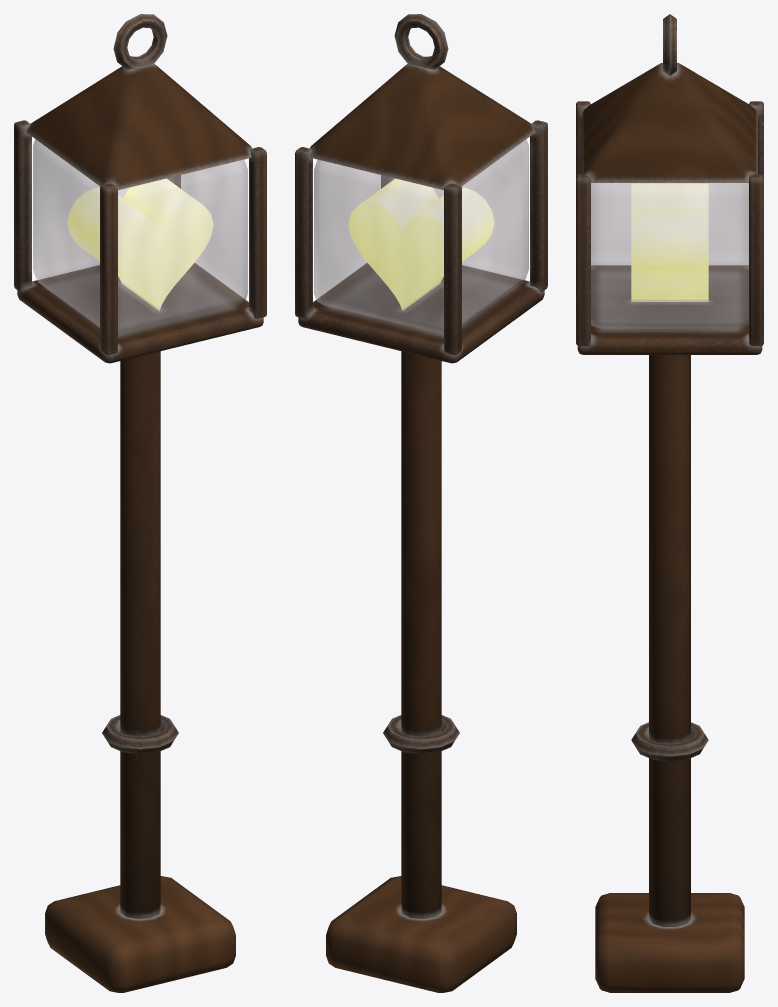
Rendered from rr_lantern_post.glb.
The picture shows the model from 3 angles, left to right: view 1: azimuth 30°, elevation 25°; view 2: azimuth 150°, elevation 25°; view 3: azimuth 270°, elevation 25°; orthographic projection.
Parts seen in each view (by area): view 1: rr_lantern_post; view 2: rr_lantern_post; view 3: rr_lantern_post.
Boxes of the visible parts, x1,y1,x2,y2 form: rr_lantern_post: (14,14,266,992); rr_lantern_post: (295,14,547,992); rr_lantern_post: (576,14,763,992).
Size of the model in its own units: 0.63 by 3.52 by 0.63.
4 materials, 4 textured.
